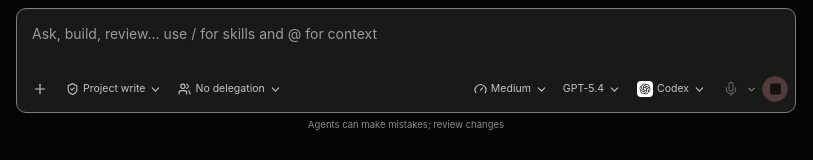
Test: Composer stop and send split › disables both stop variants while a stop is settling
Expected: the button named "Stopping turn" is disabled, [762,76,788,102]
Type "draft during stop" into the text box named "Task message" at (406, 39), box [17,9,795,69]
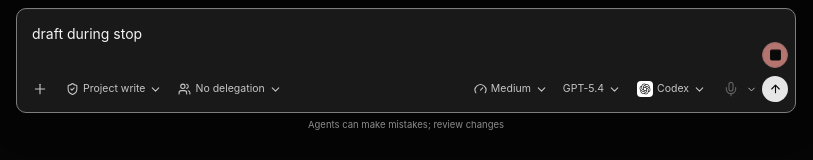
Expected: the button named "Stopping…" is disabled, [762,42,788,68]
Expected: the button named "Send message" is enabled, [762,76,788,102]
